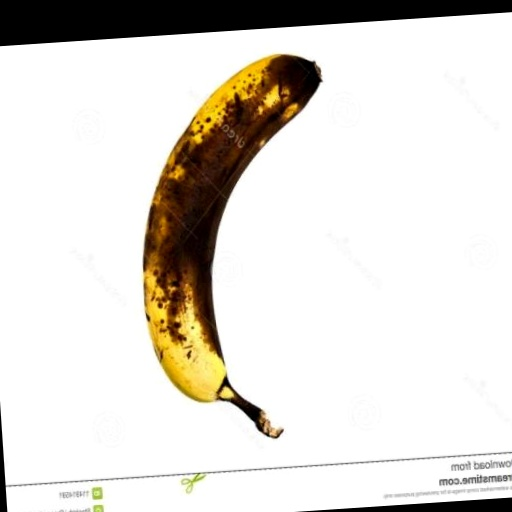fruit: (142, 55, 320, 437)
